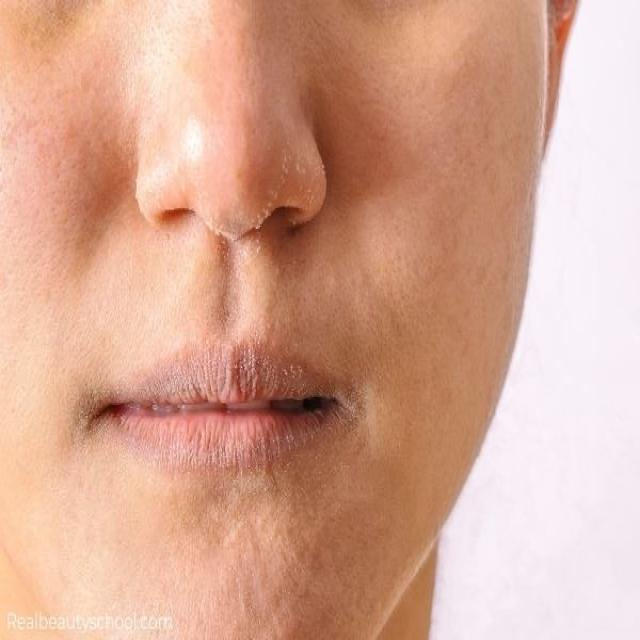Dry-Skin: (421, 212, 487, 304), (217, 480, 274, 583), (311, 482, 384, 546), (430, 60, 490, 137), (43, 126, 96, 206), (224, 190, 293, 230)
